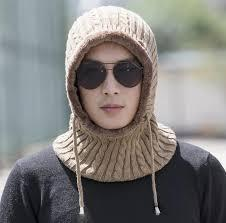sunglasses: (75, 55, 146, 94)
